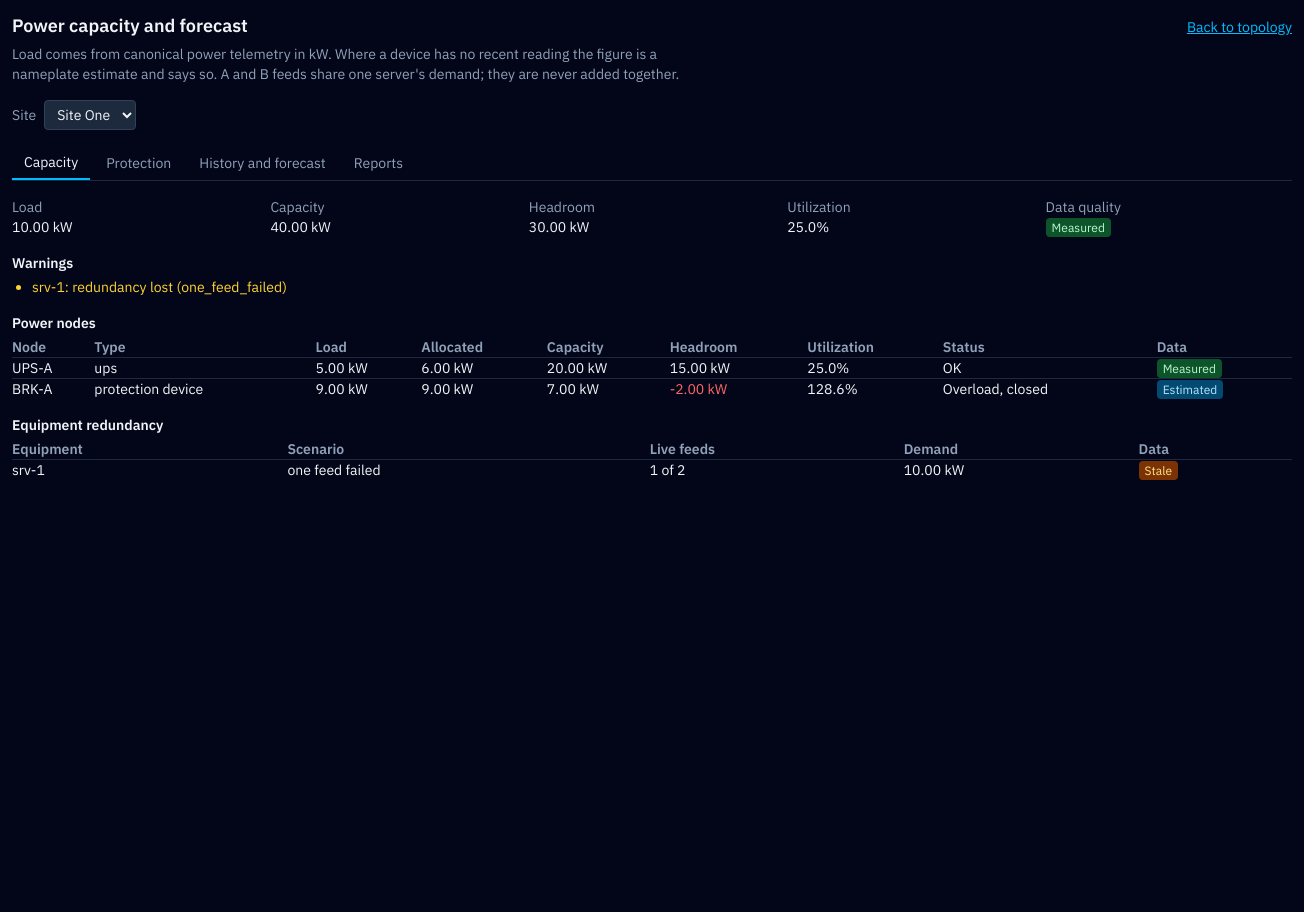
Test: PowerAnalyticsPage › shows an exhaustion date and a labelled trend when history exists
This screenshot has width=1304, height=912.
Click the tab "History and forecast": (263, 163) left=187, top=146, right=338, bottom=180
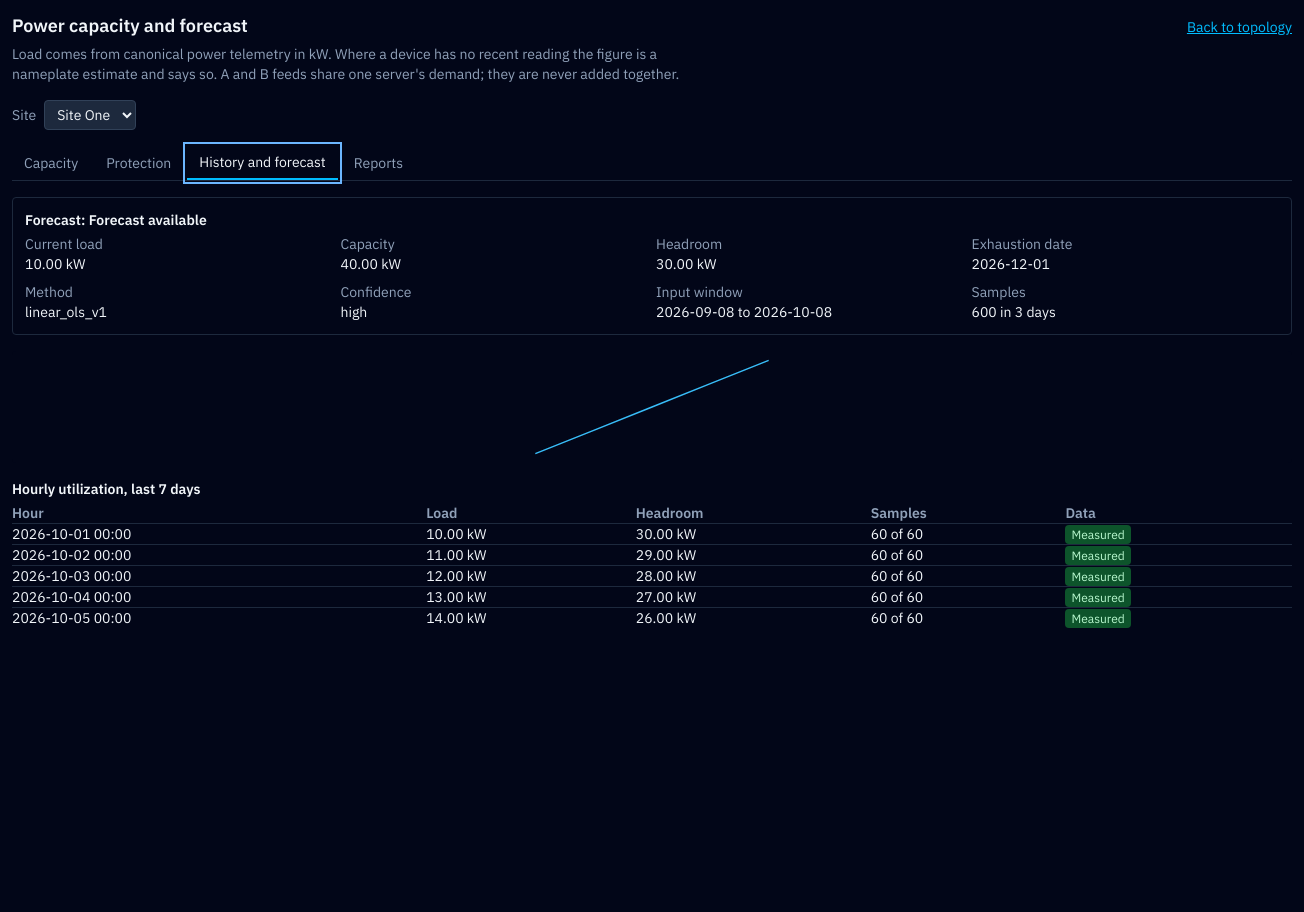
Result: the text with test id "forecast-status" reads "Forecast available" at left=89, top=211, right=207, bottom=229
Result: the text "2026-12-01" is shown at left=972, top=255, right=1050, bottom=273
Result: the picture named "Load trend from 10.00 to 14.00 kW over 5 hours" is shown at left=12, top=351, right=1292, bottom=463
